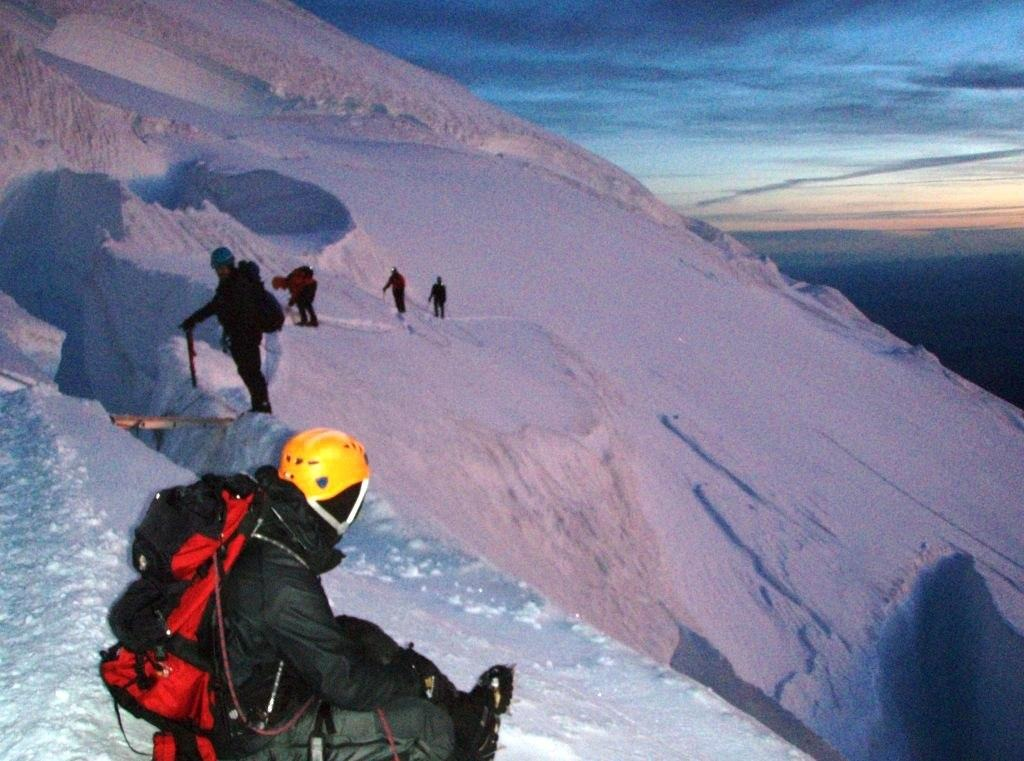helmet: (270, 422, 376, 507), (206, 243, 238, 272)
